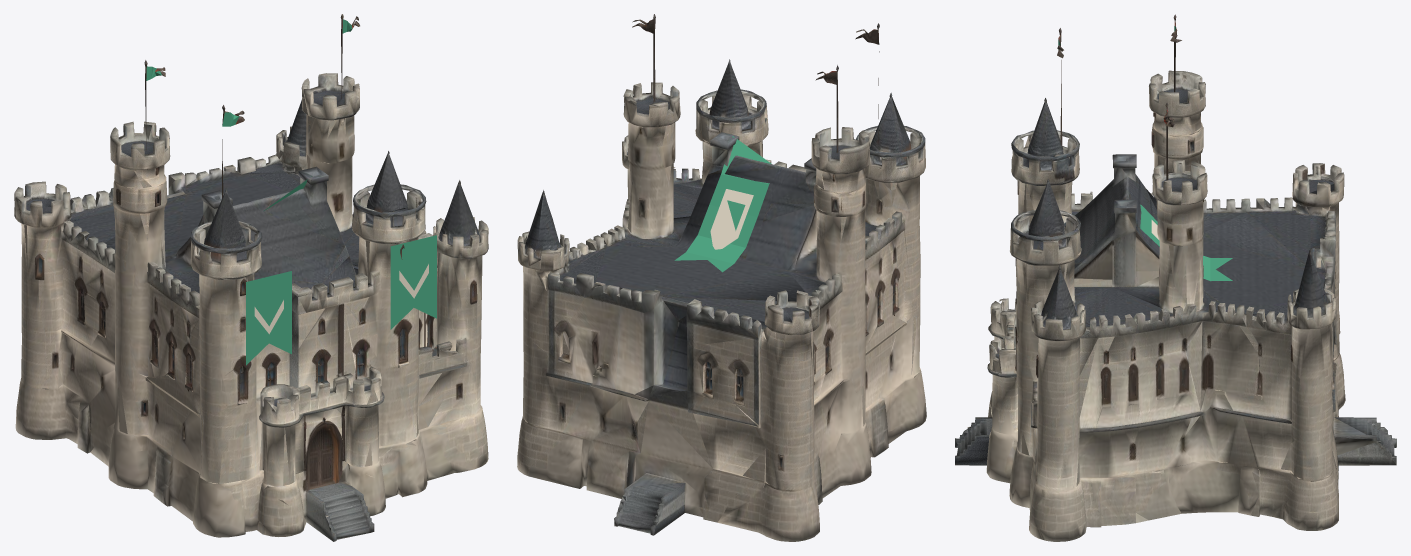
Rendered from castle.glb.
3 renders of one model, left to right at view 1: azimuth 30°, elevation 25°; view 2: azimuth 150°, elevation 25°; view 3: azimuth 270°, elevation 25°, orthographic. The views are drawn at different scales.
Visible parts, largest first — view 1: StructureBody, BannerTeam; view 2: StructureBody, BannerTeam; view 3: StructureBody, BannerTeam.
Part boxes in pixels (box(x1,y1,x2,y2)): StructureBody: box(14, 14, 488, 541); BannerTeam: box(146, 19, 436, 365); StructureBody: box(517, 14, 926, 541); BannerTeam: box(674, 136, 771, 272); StructureBody: box(955, 14, 1396, 541); BannerTeam: box(1058, 25, 1232, 281).
Size of the model in its own units: 8.26 by 10 by 10.
Materials: 2 (1 with a texture image).
